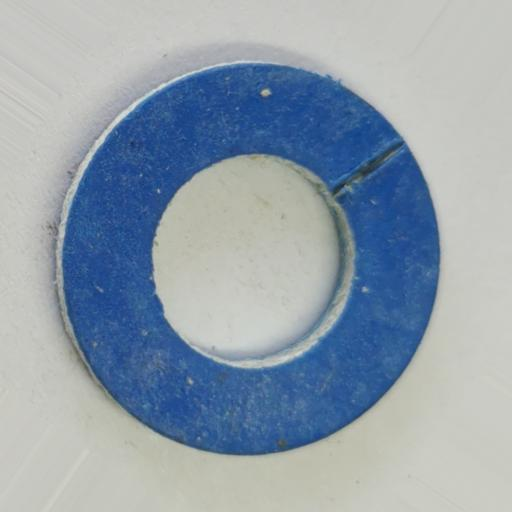defect: (330, 141, 404, 195)
